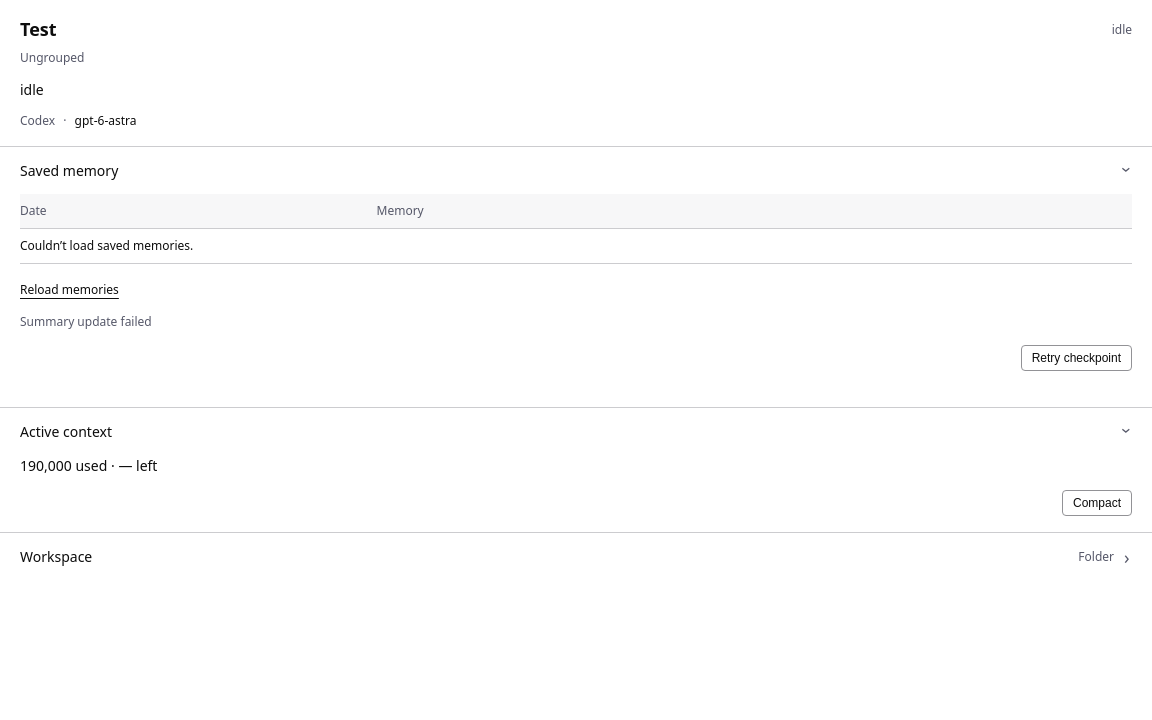
Test: shows empty memory distinctly from failed loading and allows reload
This screenshot has width=1152, height=720.
Expected: the text "Couldn’t load saved memories." is shown, left=20, top=228, right=1132, bottom=264
Expected: the text "No saved memories yet." is not shown
Click the button "Reload memories". click: (69, 290)
box: left=20, top=281, right=119, bottom=299
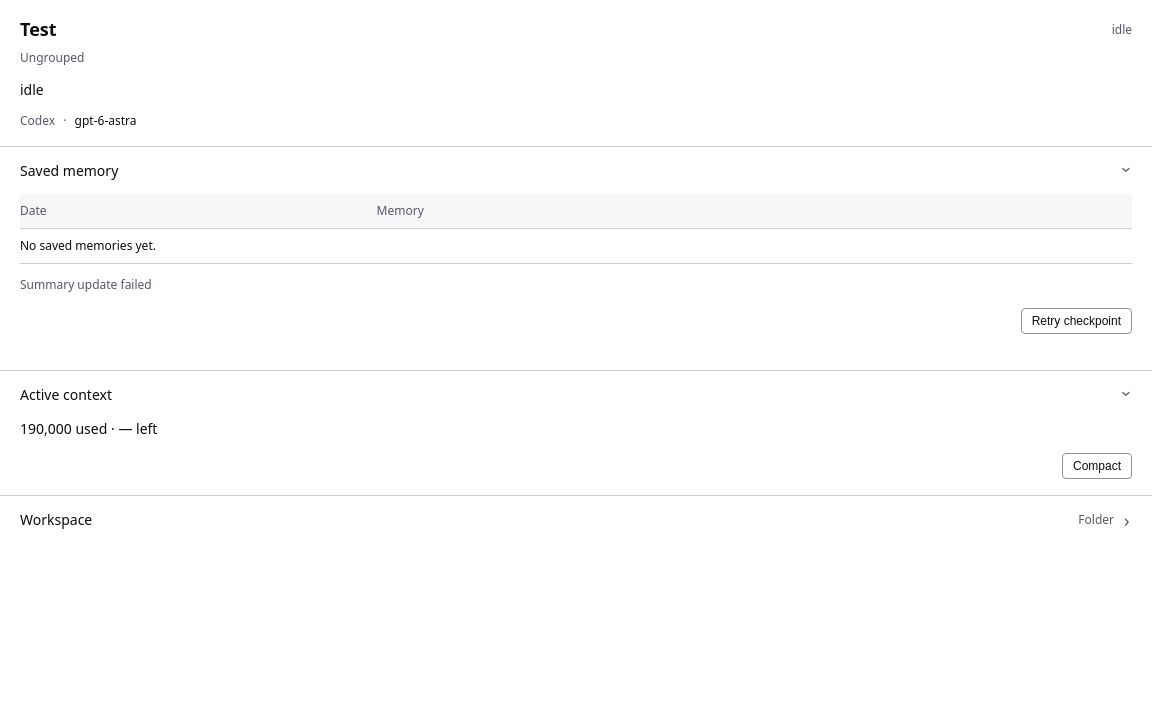
Expected: the text "No saved memories yet." is shown, left=20, top=228, right=1132, bottom=264
